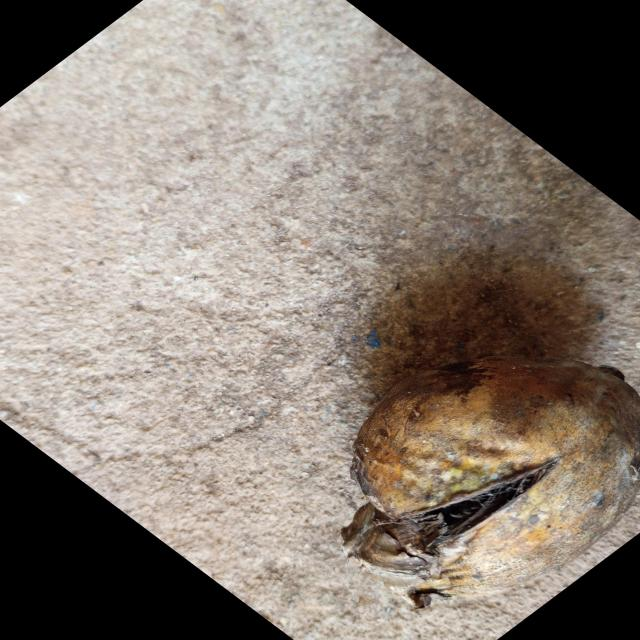damaged: (341, 357, 640, 608)
